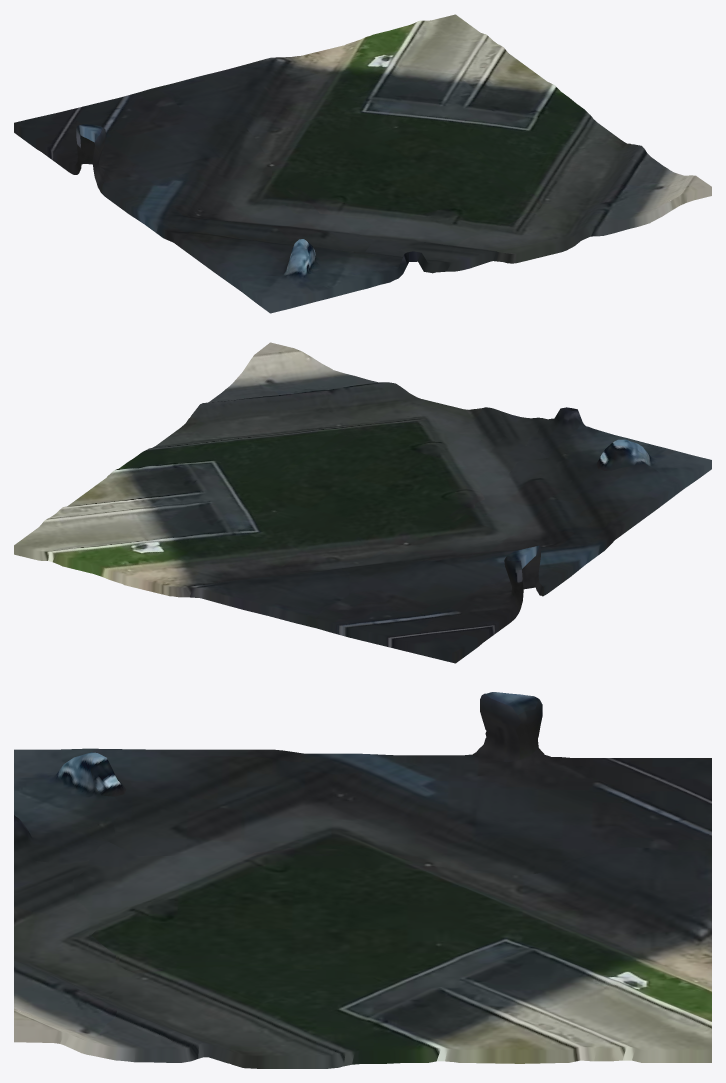
The model's file is z20-167789-405225-h0-yup-uvflip-v3-world.glb.
The picture shows the model from 3 angles, top to bottom: view 1: azimuth 30°, elevation 25°; view 2: azimuth 150°, elevation 25°; view 3: azimuth 270°, elevation 25°; orthographic projection. The views are drawn at different scales.
Size of the model in its own units: 30.16 by 4 by 30.32.
Materials: 1 (1 with a texture image).
